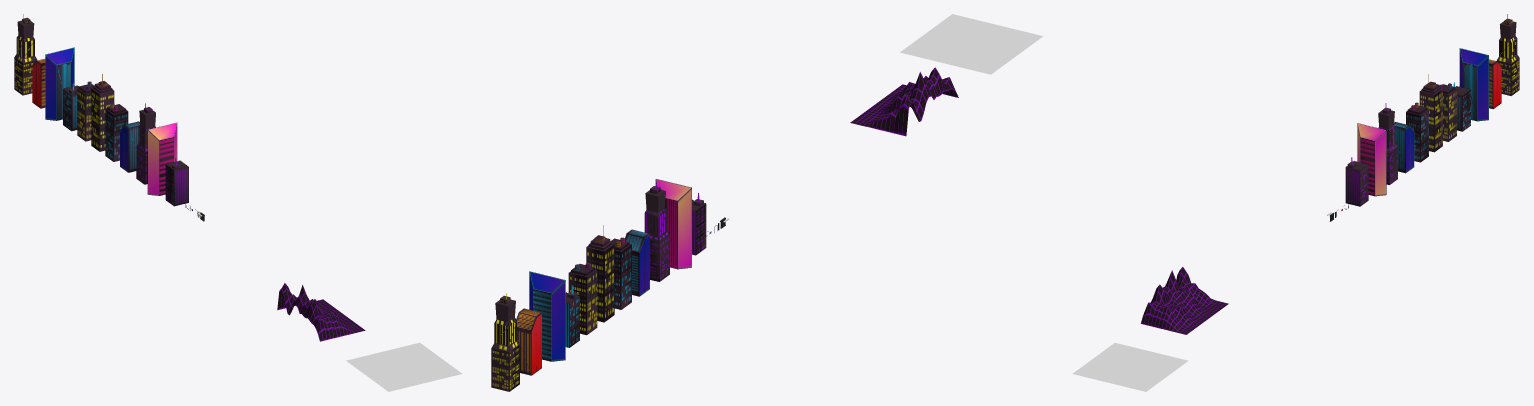
The model's file is PalmModelLowPolyTexturingForExport.fbx.
3 views of the same model, side by side, from view 1: azimuth 30°, elevation 25°; view 2: azimuth 150°, elevation 25°; view 3: azimuth 330°, elevation 25° (orthographic). The views are drawn at different scales.
Visible parts, largest first — view 1: PlaneMountains, Mountain, BuildingV2, BuildingV7, BuildingV9, BuildingV4.002, BuildingV3.002, BuildingV1, BuildingV3, BuildingV4, BuildingV5, BuildingV8 (+1 smaller); view 2: PlaneMountains, Mountain, BuildingV7, BuildingV9, BuildingV2, BuildingV3, BuildingV4.002, BuildingV8, BuildingV5, BuildingV4, BuildingV3.002, BuildingV6 (+1 smaller); view 3: PlaneMountains, Mountain, BuildingV2, BuildingV7, BuildingV9, BuildingV4.002, BuildingV1, BuildingV3.002, BuildingV3, BuildingV4, BuildingV5, BuildingV8 (+1 smaller).
Part boxes in pixels (x1=…): PlaneMountains: x1=346, y1=342, x2=462, y2=391; Mountain: x1=277, y1=283, x2=365, y2=341; BuildingV2: x1=147, y1=122, x2=177, y2=195; BuildingV7: x1=45, y1=47, x2=74, y2=120; BuildingV9: x1=14, y1=20, x2=37, y2=95; BuildingV4.002: x1=91, y1=83, x2=114, y2=151; BuildingV3.002: x1=105, y1=104, x2=128, y2=161; BuildingV1: x1=165, y1=160, x2=188, y2=206; BuildingV3: x1=136, y1=110, x2=155, y2=184; BuildingV4: x1=120, y1=121, x2=140, y2=172; BuildingV5: x1=77, y1=84, x2=94, y2=141; BuildingV8: x1=32, y1=59, x2=45, y2=108; PlaneMountains: x1=900, y1=14, x2=1043, y2=74; Mountain: x1=850, y1=67, x2=958, y2=136; BuildingV7: x1=529, y1=271, x2=565, y2=361; BuildingV9: x1=491, y1=300, x2=519, y2=391; BuildingV2: x1=655, y1=179, x2=691, y2=269; BuildingV3: x1=644, y1=190, x2=669, y2=281; BuildingV4.002: x1=586, y1=238, x2=614, y2=322; BuildingV8: x1=516, y1=308, x2=541, y2=375; BuildingV5: x1=568, y1=264, x2=597, y2=335; BuildingV4: x1=625, y1=229, x2=649, y2=296; BuildingV3.002: x1=611, y1=238, x2=631, y2=309; BuildingV6: x1=565, y1=293, x2=579, y2=347; PlaneMountains: x1=1072, y1=343, x2=1188, y2=391; Mountain: x1=1141, y1=267, x2=1228, y2=334; BuildingV2: x1=1357, y1=123, x2=1386, y2=196; BuildingV7: x1=1459, y1=48, x2=1488, y2=121; BuildingV9: x1=1496, y1=21, x2=1519, y2=95; BuildingV4.002: x1=1419, y1=84, x2=1442, y2=152; BuildingV1: x1=1345, y1=161, x2=1368, y2=206; BuildingV3.002: x1=1406, y1=105, x2=1428, y2=162; BuildingV3: x1=1378, y1=110, x2=1397, y2=184; BuildingV4: x1=1394, y1=122, x2=1414, y2=173; BuildingV5: x1=1442, y1=84, x2=1456, y2=141; BuildingV8: x1=1489, y1=59, x2=1501, y2=109.
Size of the model in its own units: 20000 by 19801 by 188984.
Materials: 5 (4 with a texture image).
